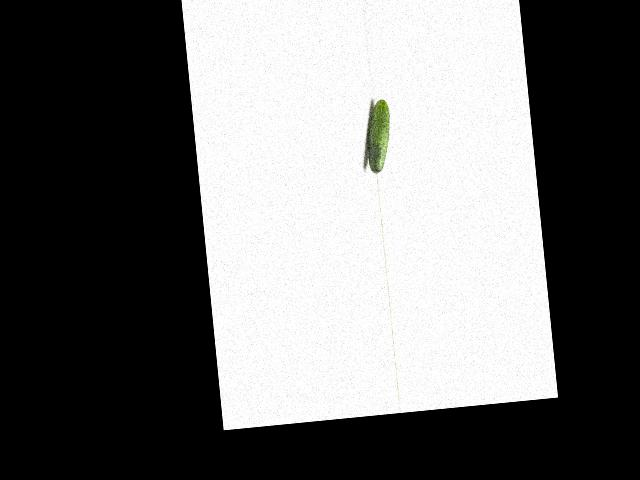cucumber: (362, 99, 395, 175)
